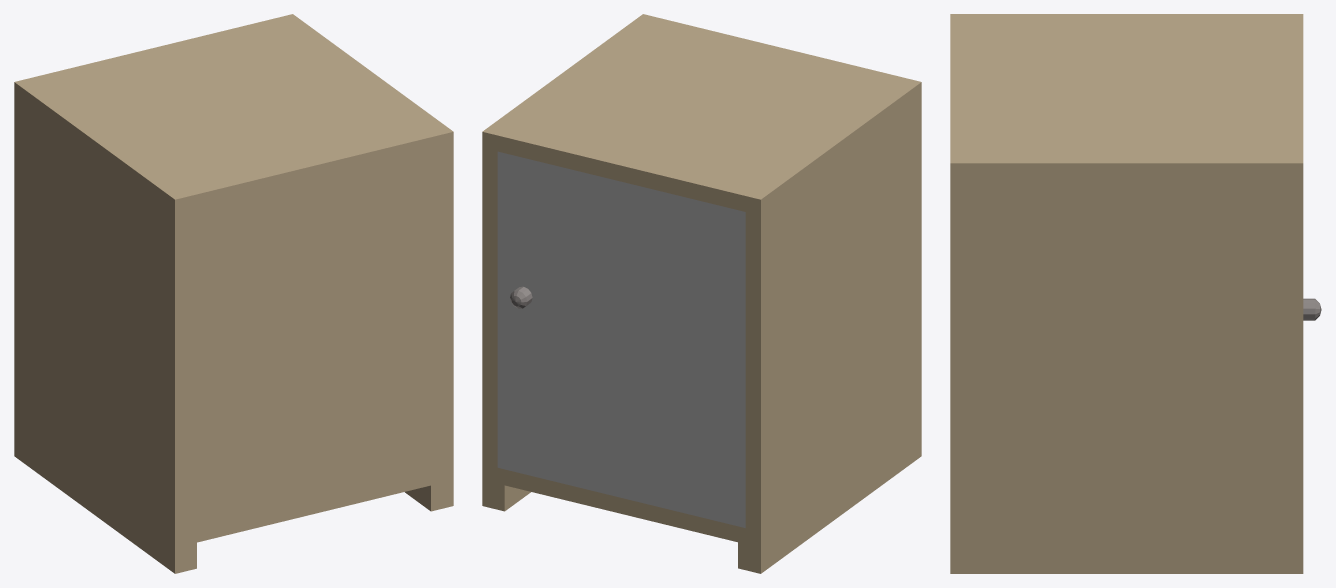
The model's file is SM_Locker_03.fbx.
3 views of the same model, side by side, from view 1: azimuth 30°, elevation 25°; view 2: azimuth 150°, elevation 25°; view 3: azimuth 270°, elevation 25° (orthographic). The views are drawn at different scales.
Visible parts, largest first — view 1: SM_Locker_03; view 2: SM_Locker_03; view 3: SM_Locker_03.
Part boxes in pixels (x1,y1,x2,y2): SM_Locker_03: [14, 14, 453, 573]; SM_Locker_03: [482, 14, 921, 573]; SM_Locker_03: [950, 14, 1321, 573].
Bounding box in the file's own units: 59.67 × 76.59 × 62.74.
